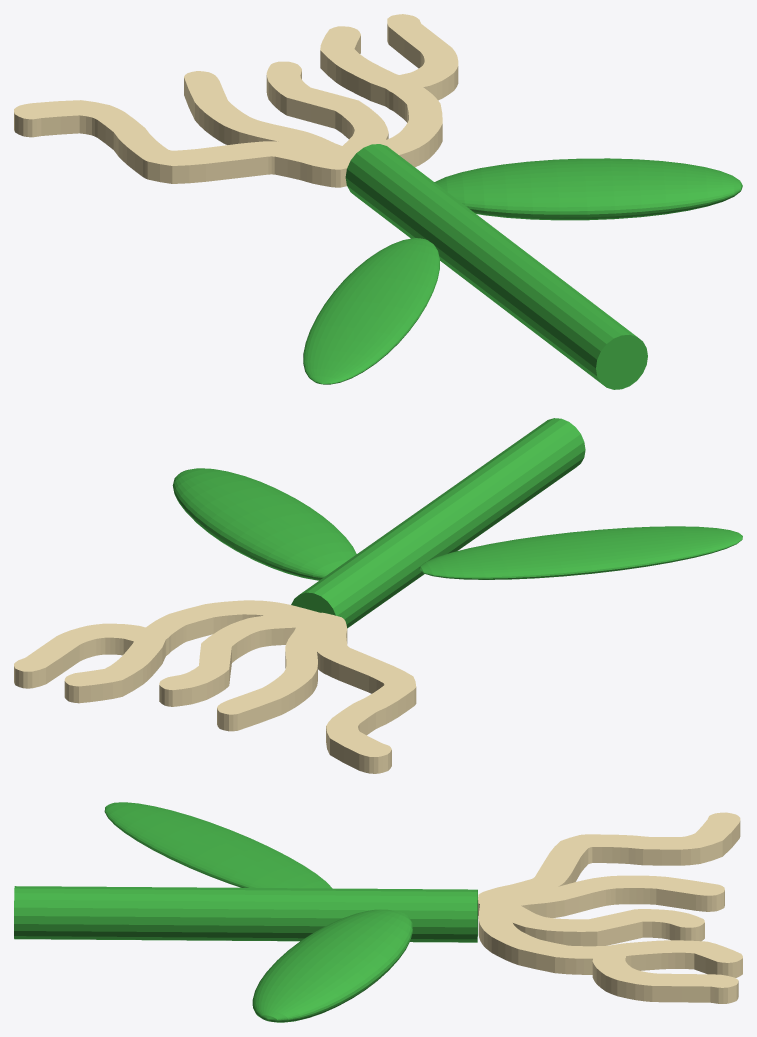
Rendered from tinker.obj.
3 views of the same model, one above another, from view 1: azimuth 30°, elevation 25°; view 2: azimuth 150°, elevation 25°; view 3: azimuth 270°, elevation 25° (orthographic). The views are drawn at different scales.
Parts seen in each view (by area): view 1: group_0_4634441, group_0_16311991; view 2: group_0_4634441, group_0_16311991; view 3: group_0_4634441, group_0_16311991.
Part boxes in pixels (x1,y1,x2,y2): group_0_4634441: (303,144,742,389); group_0_16311991: (14,14,458,187); group_0_4634441: (172,418,742,628); group_0_16311991: (14,600,416,773); group_0_4634441: (14,802,477,1022); group_0_16311991: (478,812,742,1003).
Size of the model in its own units: 29.94 by 3 by 40.91.
